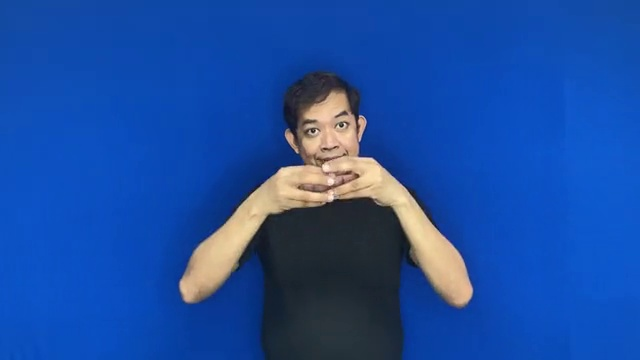egg: (247, 152, 405, 219)
